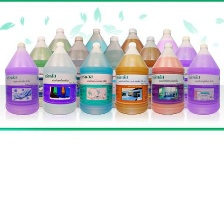cleaning_solution: (57, 34, 98, 109), (19, 33, 59, 109), (40, 40, 78, 117), (183, 40, 221, 116), (3, 40, 41, 116), (169, 32, 205, 110), (113, 40, 149, 116), (78, 40, 114, 116), (133, 32, 169, 108), (149, 41, 185, 116), (97, 33, 133, 108), (149, 23, 184, 90), (42, 25, 78, 90), (113, 26, 149, 90), (78, 24, 112, 90)
